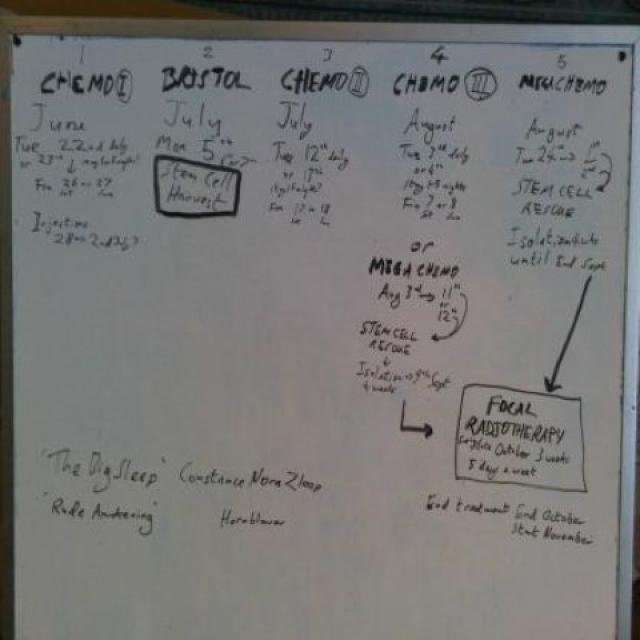White-board: (10, 35, 632, 640)
